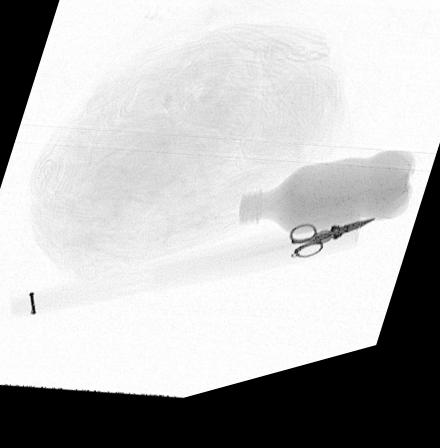Scissors: (289, 240, 376, 275)
